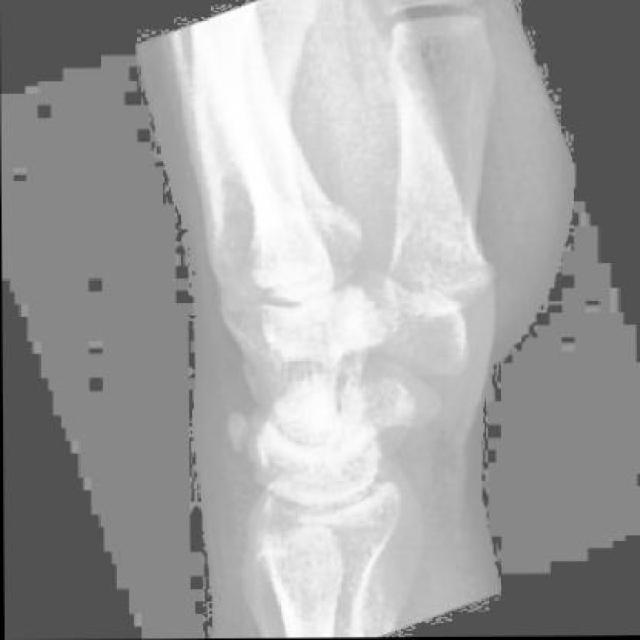Fracture: (209, 396, 285, 478)
